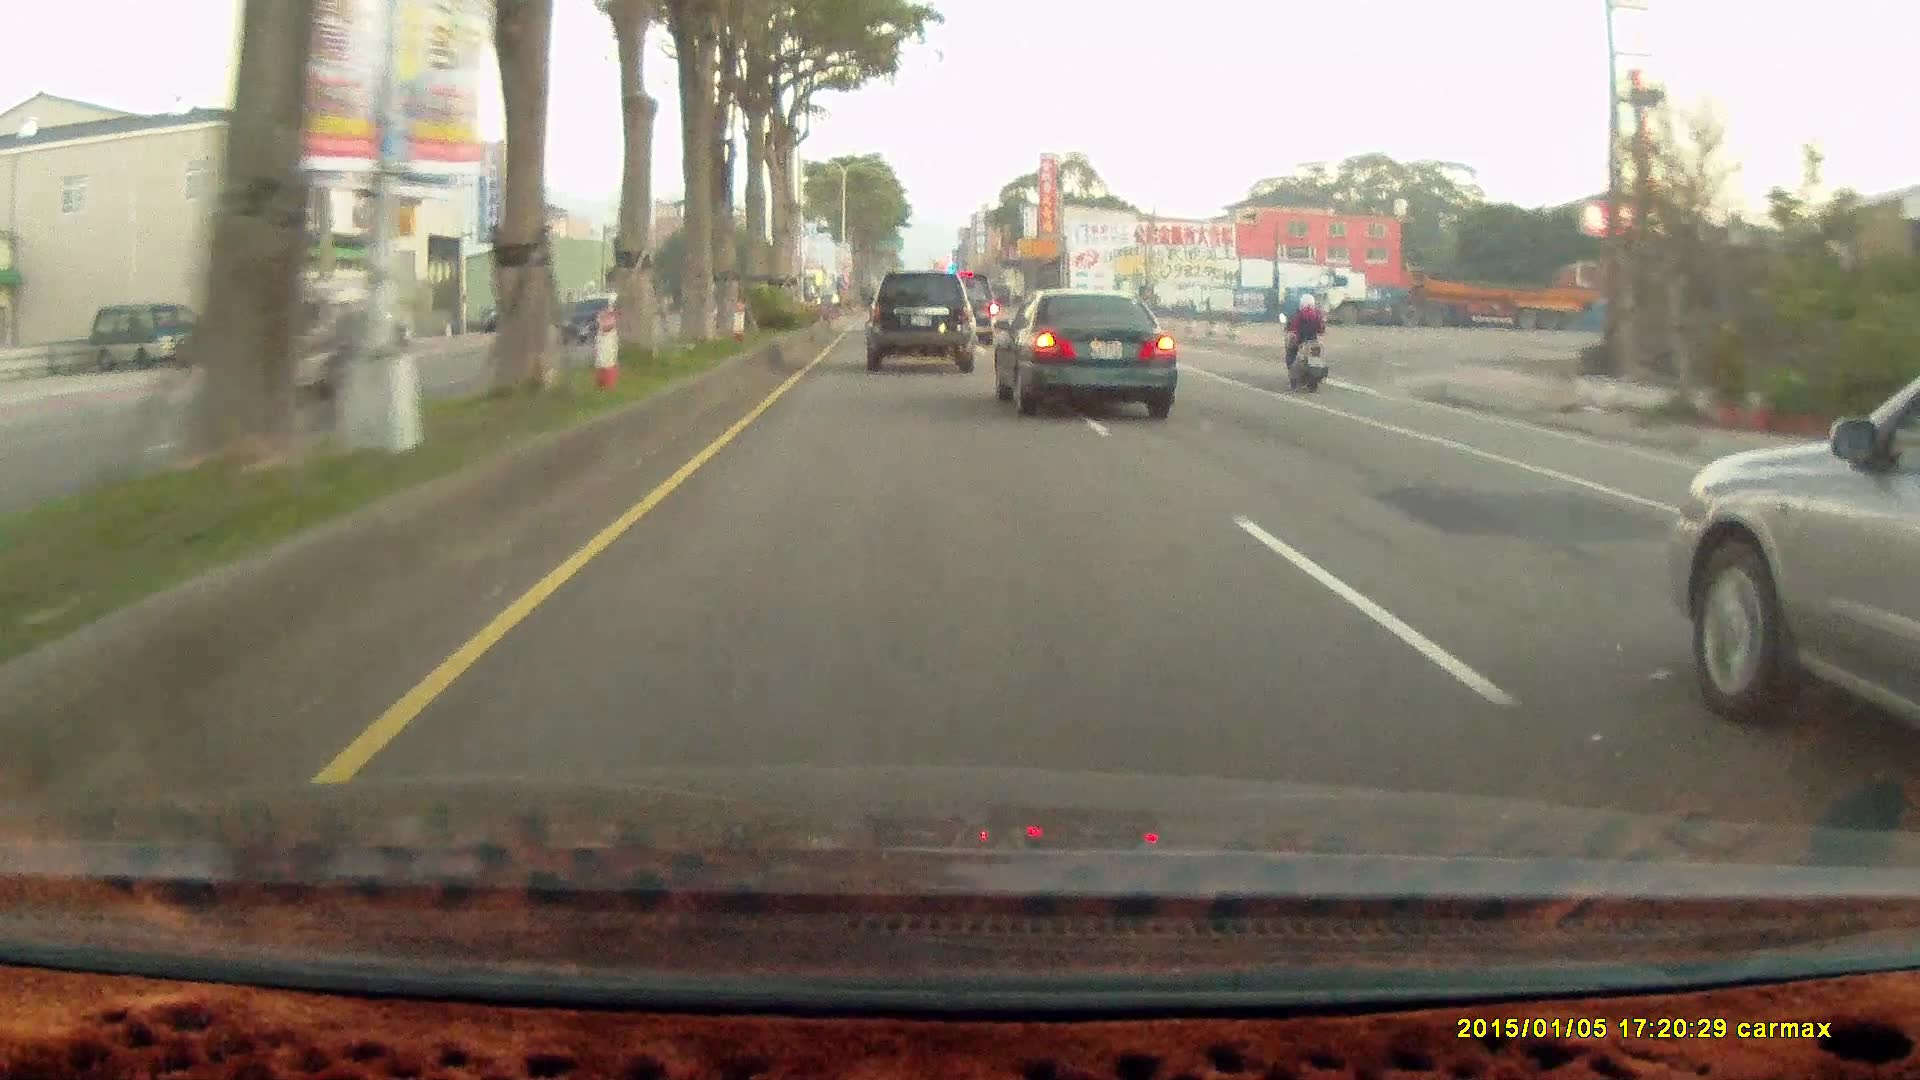rider: (1271, 284, 1339, 401), (1278, 286, 1330, 388)
vehicle: (1685, 367, 1920, 765), (169, 283, 385, 439), (989, 290, 1180, 418), (992, 286, 1176, 414), (207, 285, 377, 418), (1321, 266, 1593, 331), (867, 268, 979, 372), (864, 269, 976, 370), (90, 306, 205, 376), (89, 302, 204, 371), (929, 272, 1000, 347), (558, 291, 634, 344)
